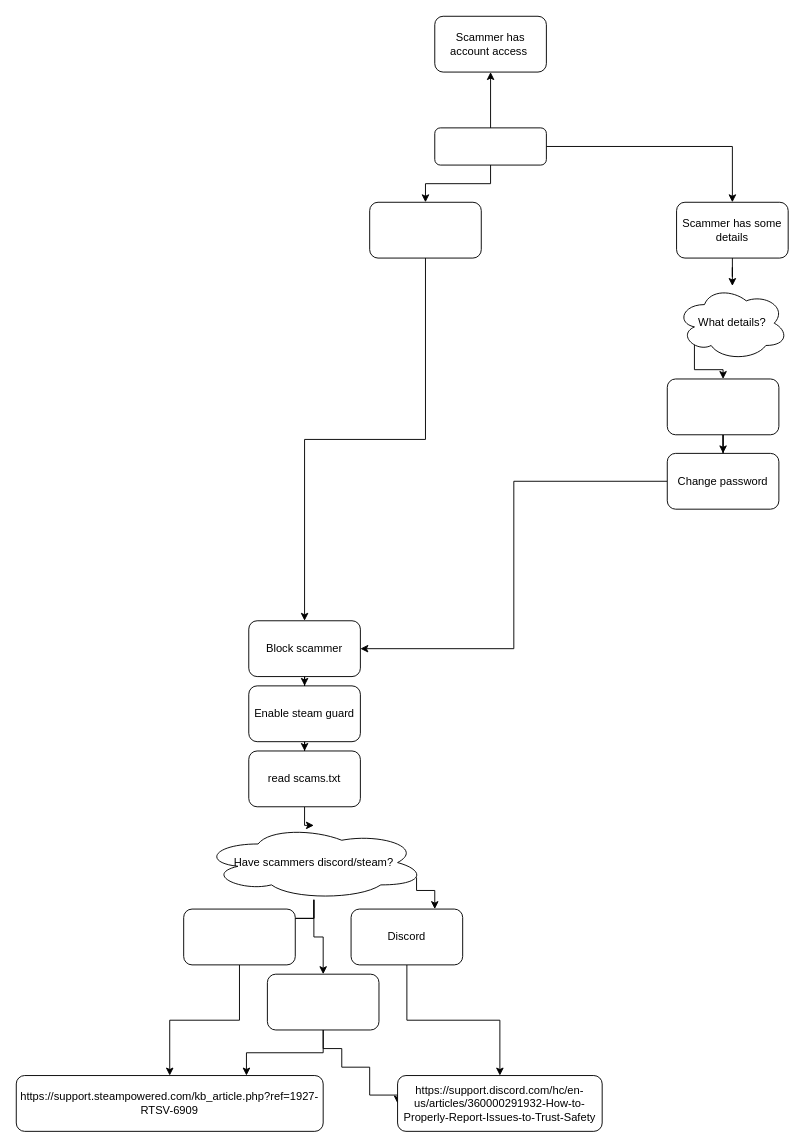
Some shapes in this 804 by 1148 pixel diagram are drawn without their labels. Each missing label, with the centre of its shape:
"bot pinged with id" goes at (490,146).
"Both" goes at (322,1001).
"Password" goes at (722,406).
"Scammer has no details" goes at (425,229).
"Steam" goes at (239,936).
